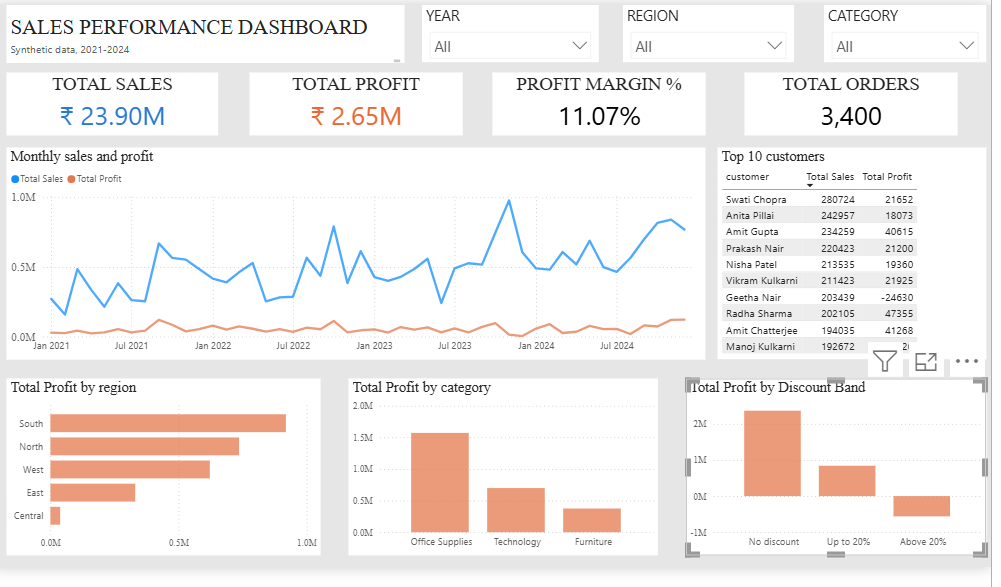

This screenshot's page, from the dashboard's own definition file:
{"tool":"powerbi","page":{"name":"Page 1","canvas":[1280,720],"ordinal":0},"visuals":[{"type":"card","title":"TOTAL SALES","fields":{"Values":["superstore_clean.Total Sales"]},"box":[17.3,86.5,271.2,80.8],"z":0},{"type":"card","title":"TOTAL PROFIT","fields":{"Values":["superstore_clean.Total Profit"]},"box":[328.8,86.5,273.1,80.8],"z":1000},{"type":"card","title":"PROFIT MARGIN %","fields":{"Values":["superstore_clean.Profit Margin %"]},"box":[640.4,86.5,273.1,80.8],"z":2000},{"type":"card","title":"TOTAL ORDERS","fields":{"Values":["superstore_clean.Total Orders"]},"box":[963.5,86.5,273.1,80.8],"z":3000},{"type":"textbox","title":"SALES PERFORMANCE DASHBOARD","box":[17.3,0,509.6,73.1],"z":4000},{"type":"lineChart","title":"Monthly sales and profit","fields":{"Y":["superstore_clean.Total Sales","superstore_clean.Total Profit"],"Category":["superstore_clean.month.Variation.Date Hierarchy.Year","superstore_clean.month.Variation.Date Hierarchy.Quarter","superstore_clean.month.Variation.Date Hierarchy.Month","superstore_clean.month.Variation.Date Hierarchy.Day"]},"box":[17,183.3,895.8,272.1],"z":5000},{"type":"clusteredBarChart","fields":{"Category":["superstore_clean.region"],"Y":["superstore_clean.Total Profit"]},"box":[17,478.1,402.5,226.8],"z":6000},{"type":"clusteredColumnChart","fields":{"Category":["superstore_clean.category"],"Y":["superstore_clean.Total Profit"]},"box":[455.4,478.1,396.9,226.8],"z":7000},{"type":"clusteredColumnChart","fields":{"Category":["superstore_clean.Discount Band"],"Y":["superstore_clean.Total Profit"]},"box":[888.2,478.1,385.5,226.8],"z":8000},{"type":"tableEx","title":"Top 10 customers","fields":{"Values":["superstore_clean.customer_name","superstore_clean.Total Sales","superstore_clean.Total Profit"]},"box":[928.2,183,344.7,271.5],"z":9000},{"type":"slicer","title":"YEAR","fields":{"Values":["superstore_clean.year"]},"box":[550,0,226.9,73.1],"z":10000},{"type":"slicer","title":"REGION","fields":{"Values":["superstore_clean.region"]},"box":[807.7,0,219.2,73.1],"z":12001},{"type":"slicer","title":"CATEGORY","fields":{"Values":["superstore_clean.category"]},"box":[1065.4,0,207.7,73.1],"z":12002}]}

Visuals, with their boxes on the page's 1280x720 design canvas (x1, y1, x2, y2). These are canvas units, not pixel positions in the 1001x587 screenshot, which may show the page scaled, cropped or inside an application window:
"TOTAL SALES" card: [left=17, top=86, right=288, bottom=167]
"TOTAL PROFIT" card: [left=329, top=86, right=602, bottom=167]
"PROFIT MARGIN %" card: [left=640, top=86, right=914, bottom=167]
"TOTAL ORDERS" card: [left=964, top=86, right=1237, bottom=167]
"SALES PERFORMANCE DASHBOARD" textbox: [left=17, top=0, right=527, bottom=73]
"Monthly sales and profit" lineChart: [left=17, top=183, right=913, bottom=455]
clusteredBarChart - superstore_clean.region x superstore_clean.Total Profit: [left=17, top=478, right=420, bottom=705]
clusteredColumnChart - superstore_clean.category x superstore_clean.Total Profit: [left=455, top=478, right=852, bottom=705]
clusteredColumnChart - superstore_clean.Discount Band x superstore_clean.Total Profit: [left=888, top=478, right=1274, bottom=705]
"Top 10 customers" tableEx: [left=928, top=183, right=1273, bottom=454]
"YEAR" slicer: [left=550, top=0, right=777, bottom=73]
"REGION" slicer: [left=808, top=0, right=1027, bottom=73]
"CATEGORY" slicer: [left=1065, top=0, right=1273, bottom=73]
